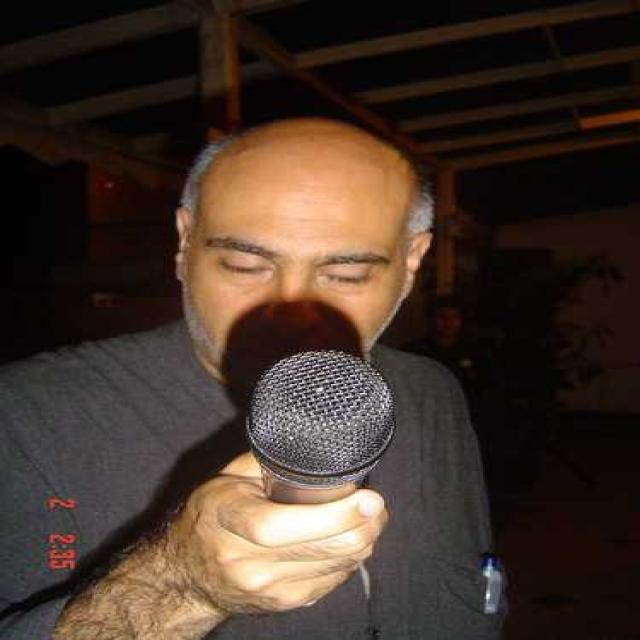microphone: (244, 348, 396, 508)
